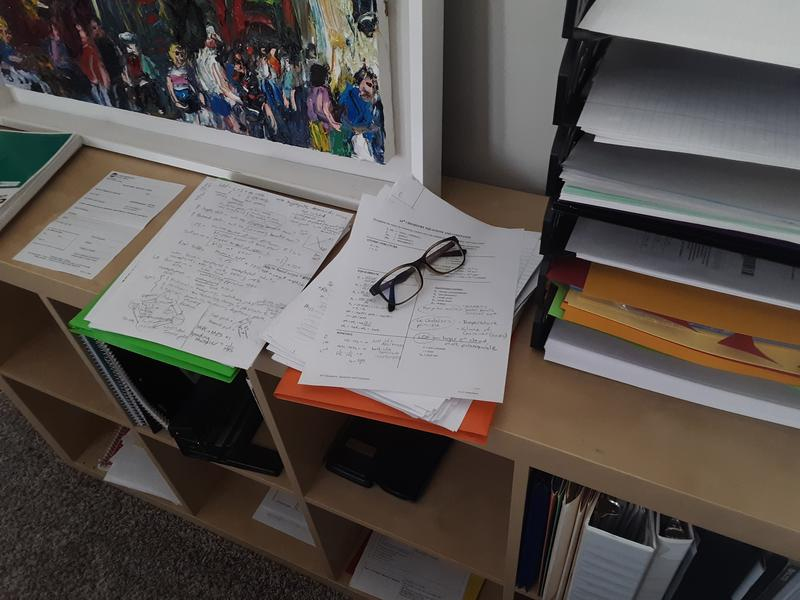glasses: (368, 235, 469, 315)
